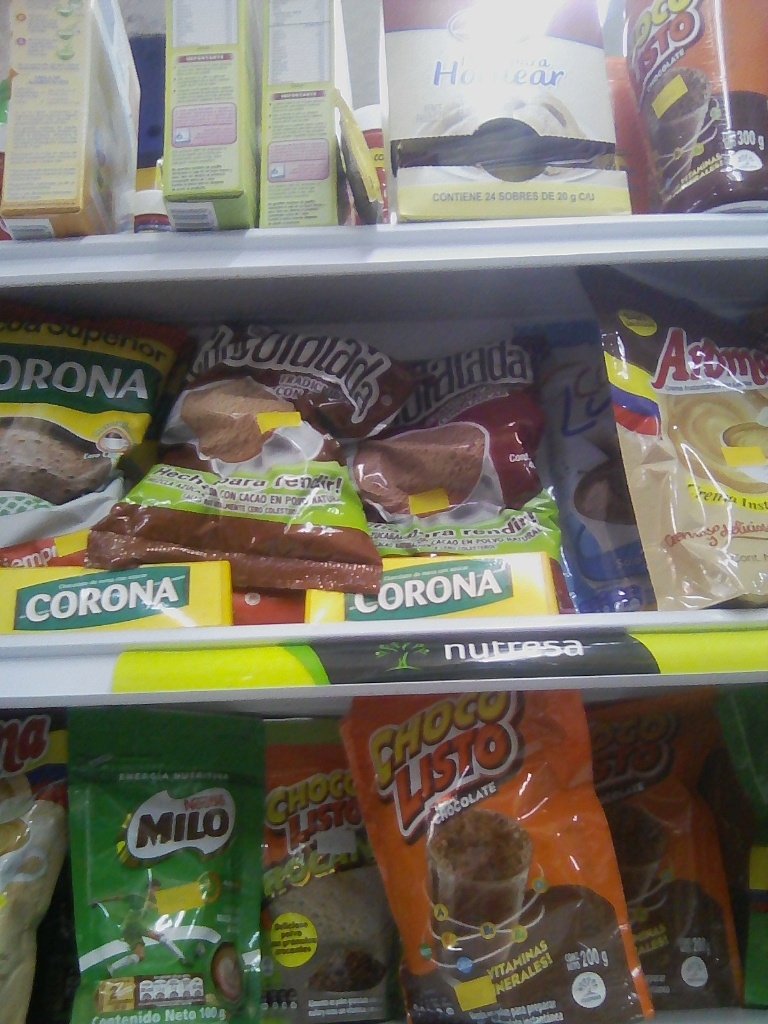COL0170102DYP10000: (254, 716, 404, 1024)
COL0170103DYP20000: (361, 696, 647, 1021)
COL0170103TRR30000: (622, 0, 760, 210)
COL0170203DYP10000: (60, 706, 267, 1023)
